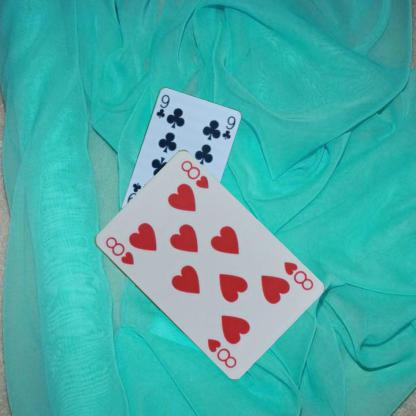8h: (281, 258, 314, 292), (102, 233, 135, 266)
9c: (153, 92, 171, 119)
